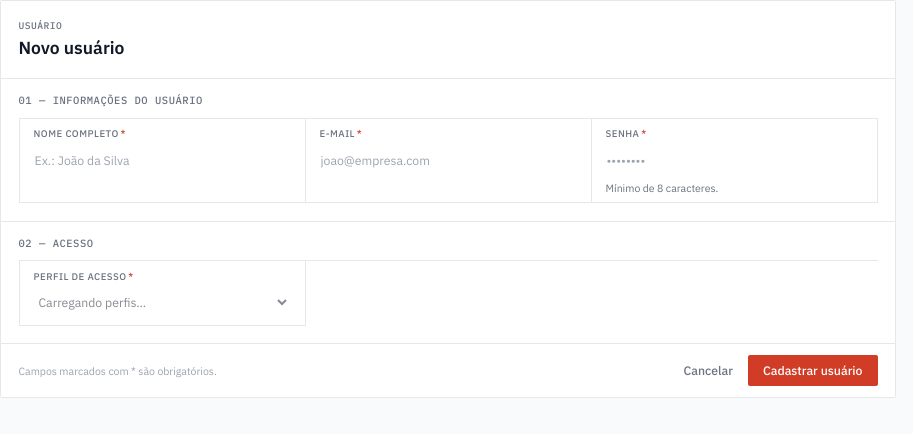
Test case: UserEditPage — modo criação › deve rejeitar e-mail em formato inválido
Type "joao-arroba-empresa" into the field labelled "E-mail" at (448, 160), box [320,144,576,176]
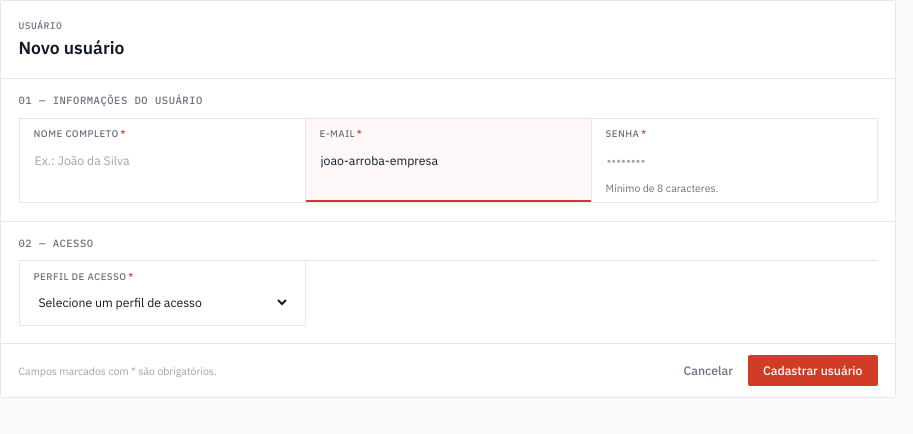
Click the button "Cadastrar usuário" at (813, 371), box [748,355,878,386]
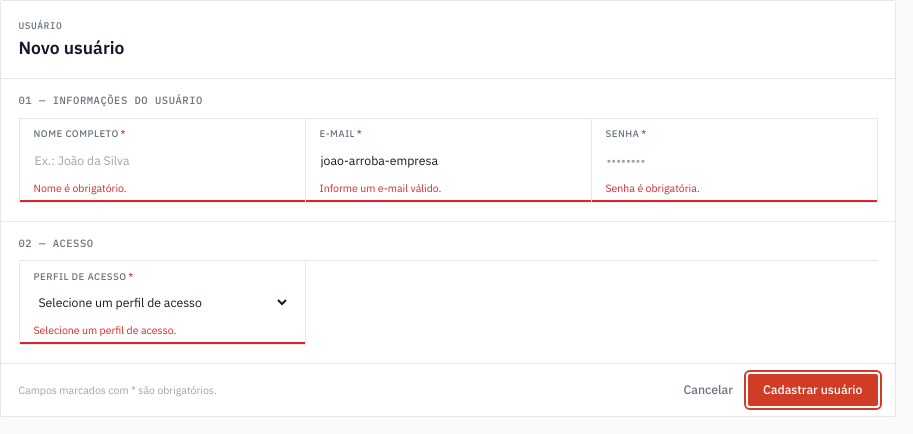
Now the text "Informe um e-mail válido." is shown, box [320,181,441,195]
